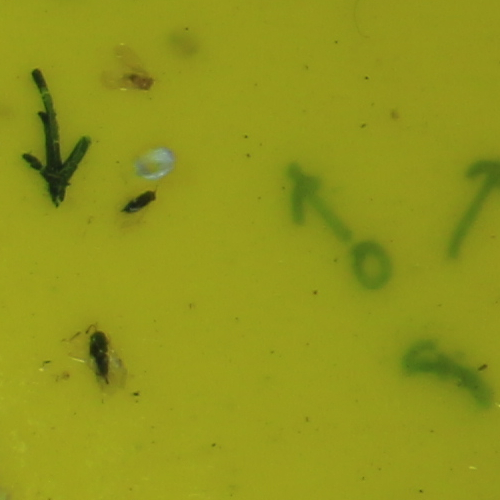Platyobria: (124, 70, 156, 93)
Psyllaephagus: (87, 327, 112, 389)
